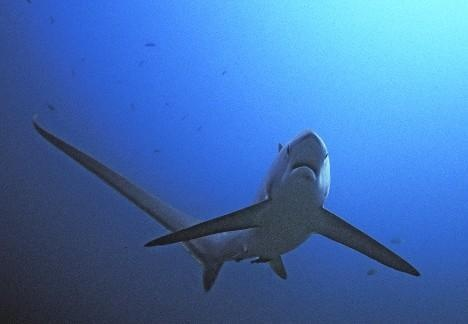fish: (29, 113, 425, 287)
